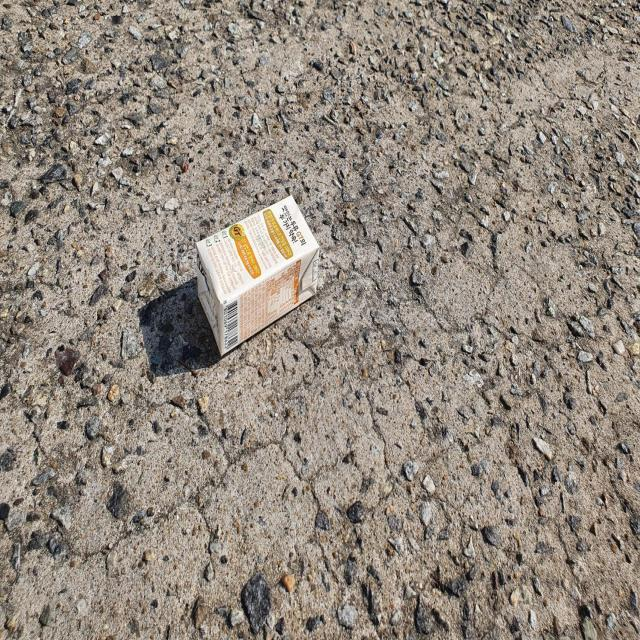paperpack: (196, 194, 319, 355)
